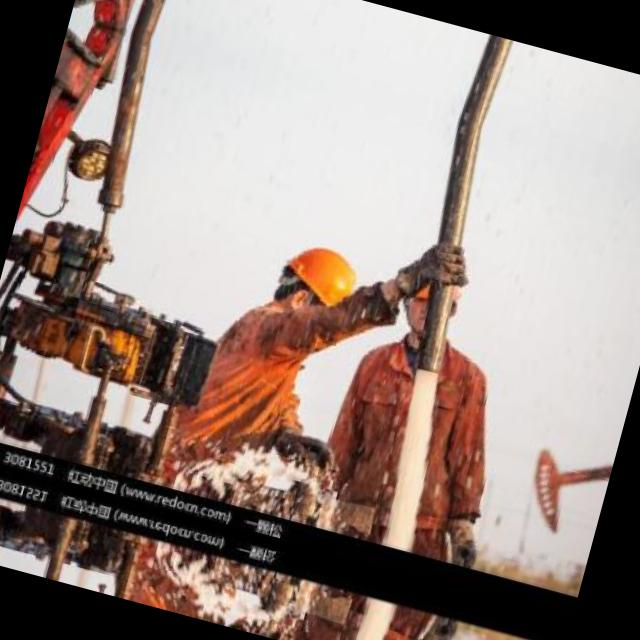helmet: (260, 224, 374, 340), (392, 252, 473, 344)
